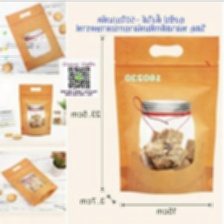snack: (109, 30, 222, 199), (2, 0, 67, 74), (0, 153, 62, 209), (15, 80, 56, 138)
